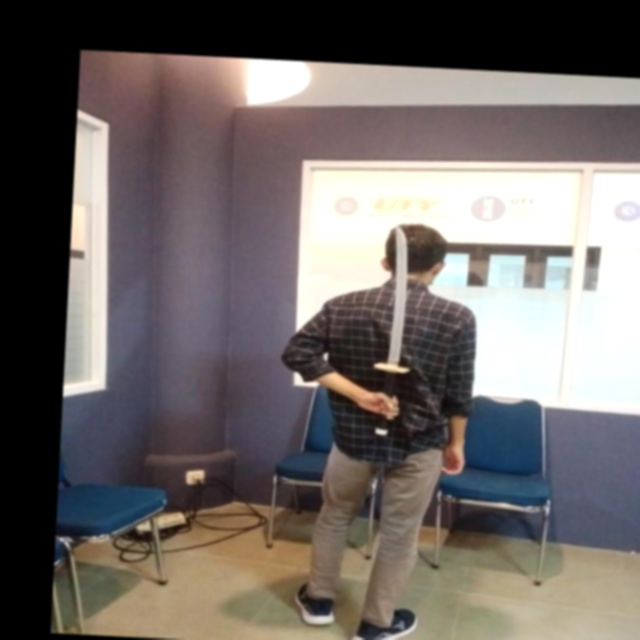Sharp-Object: (360, 222, 425, 441)
